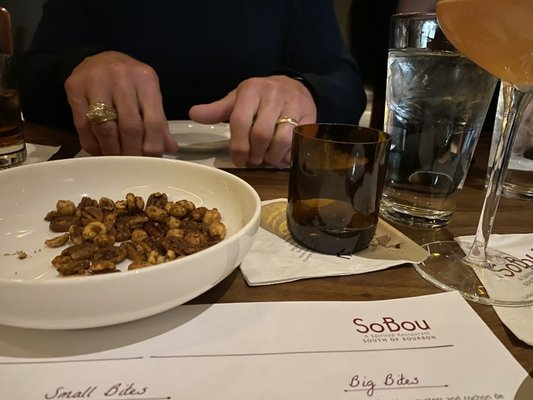sushi: (0, 155, 261, 331)
